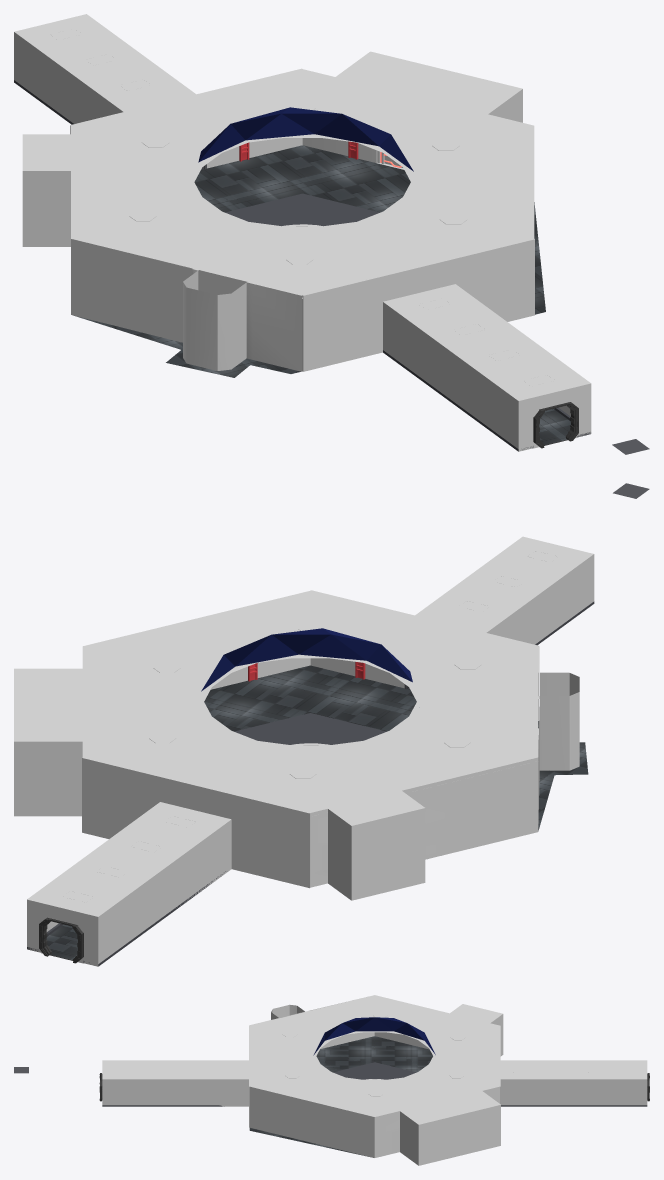
The model's file is Space Station Med Hall.fbx.
3 views of the same model, one above another, from view 1: azimuth 30°, elevation 25°; view 2: azimuth 150°, elevation 25°; view 3: azimuth 270°, elevation 25° (orthographic). The views are drawn at different scales.
Parts seen in each view (by area): view 1: cEILLING, Corridor 2, Hall Columns Plinth Fillet, Walls.010, Corridor 1, Floor.002, Cube.007, Cube.026, Icosphere, Floor.001, Walls.001, Reception Base Wall (+3 smaller); view 2: cEILLING, Corridor 1, Walls.001, Corridor 2, Floor.002, Insurance, Cube.007, Cube.026, Icosphere, Hall Columns Plinth Fillet, Floor.001, Walls.010 (+3 smaller); view 3: cEILLING, Corridor 2, Corridor 1, Cube.007, Walls.004, Floor.002, Icosphere, Reception Base Wall, Floor.001, Cube.026, Hall Columns Plinth Fillet, Corridor Fillet 2.001 (+3 smaller).
Part boxes in pixels (<box>): cEILLING: <box>71,69,534,295</box>; Corridor 2: <box>383,284,591,451</box>; Hall Columns Plinth Fillet: <box>71,141,358,371</box>; Walls.010: <box>302,239,534,371</box>; Corridor 1: <box>14,14,202,169</box>; Floor.002: <box>74,145,545,377</box>; Cube.007: <box>336,51,522,169</box>; Cube.026: <box>22,134,70,246</box>; Icosphere: <box>198,107,413,171</box>; Floor.001: <box>225,193,379,226</box>; Walls.001: <box>70,68,302,167</box>; Reception Base Wall: <box>302,138,402,167</box>; cEILLING: <box>82,590,538,812</box>; Corridor 1: <box>27,802,231,966</box>; Walls.001: <box>82,757,310,888</box>; Corridor 2: <box>409,536,594,689</box>; Floor.002: <box>204,665,588,830</box>; Insurance: <box>310,757,538,887</box>; Cube.007: <box>14,668,82,816</box>; Cube.026: <box>328,790,425,900</box>; Icosphere: <box>201,628,412,691</box>; Hall Columns Plinth Fillet: <box>248,646,579,823</box>; Floor.001: <box>234,713,386,744</box>; Walls.010: <box>310,590,538,720</box>; cEILLING: <box>249,995,499,1116</box>; Corridor 2: <box>102,1060,248,1106</box>; Corridor 1: <box>500,1061,647,1105</box>; Cube.007: <box>400,1091,500,1165</box>; Walls.004: <box>249,1086,374,1157</box>; Floor.002: <box>249,1036,432,1156</box>; Icosphere: <box>313,1017,435,1055</box>; Reception Base Wall: <box>374,1086,499,1157</box>; Floor.001: <box>333,1062,416,1079</box>; Cube.026: <box>450,1004,503,1056</box>; Hall Columns Plinth Fillet: <box>249,1000,374,1048</box>; Corridor Fillet 2.001: <box>500,1060,647,1080</box>.
Bounding box in the file's own units: 40.67 × 10.8 × 84.22.
